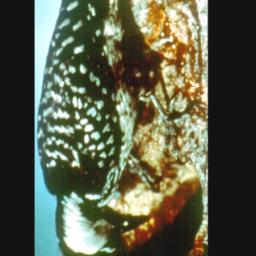Woodpecker: (37, 0, 197, 256)
